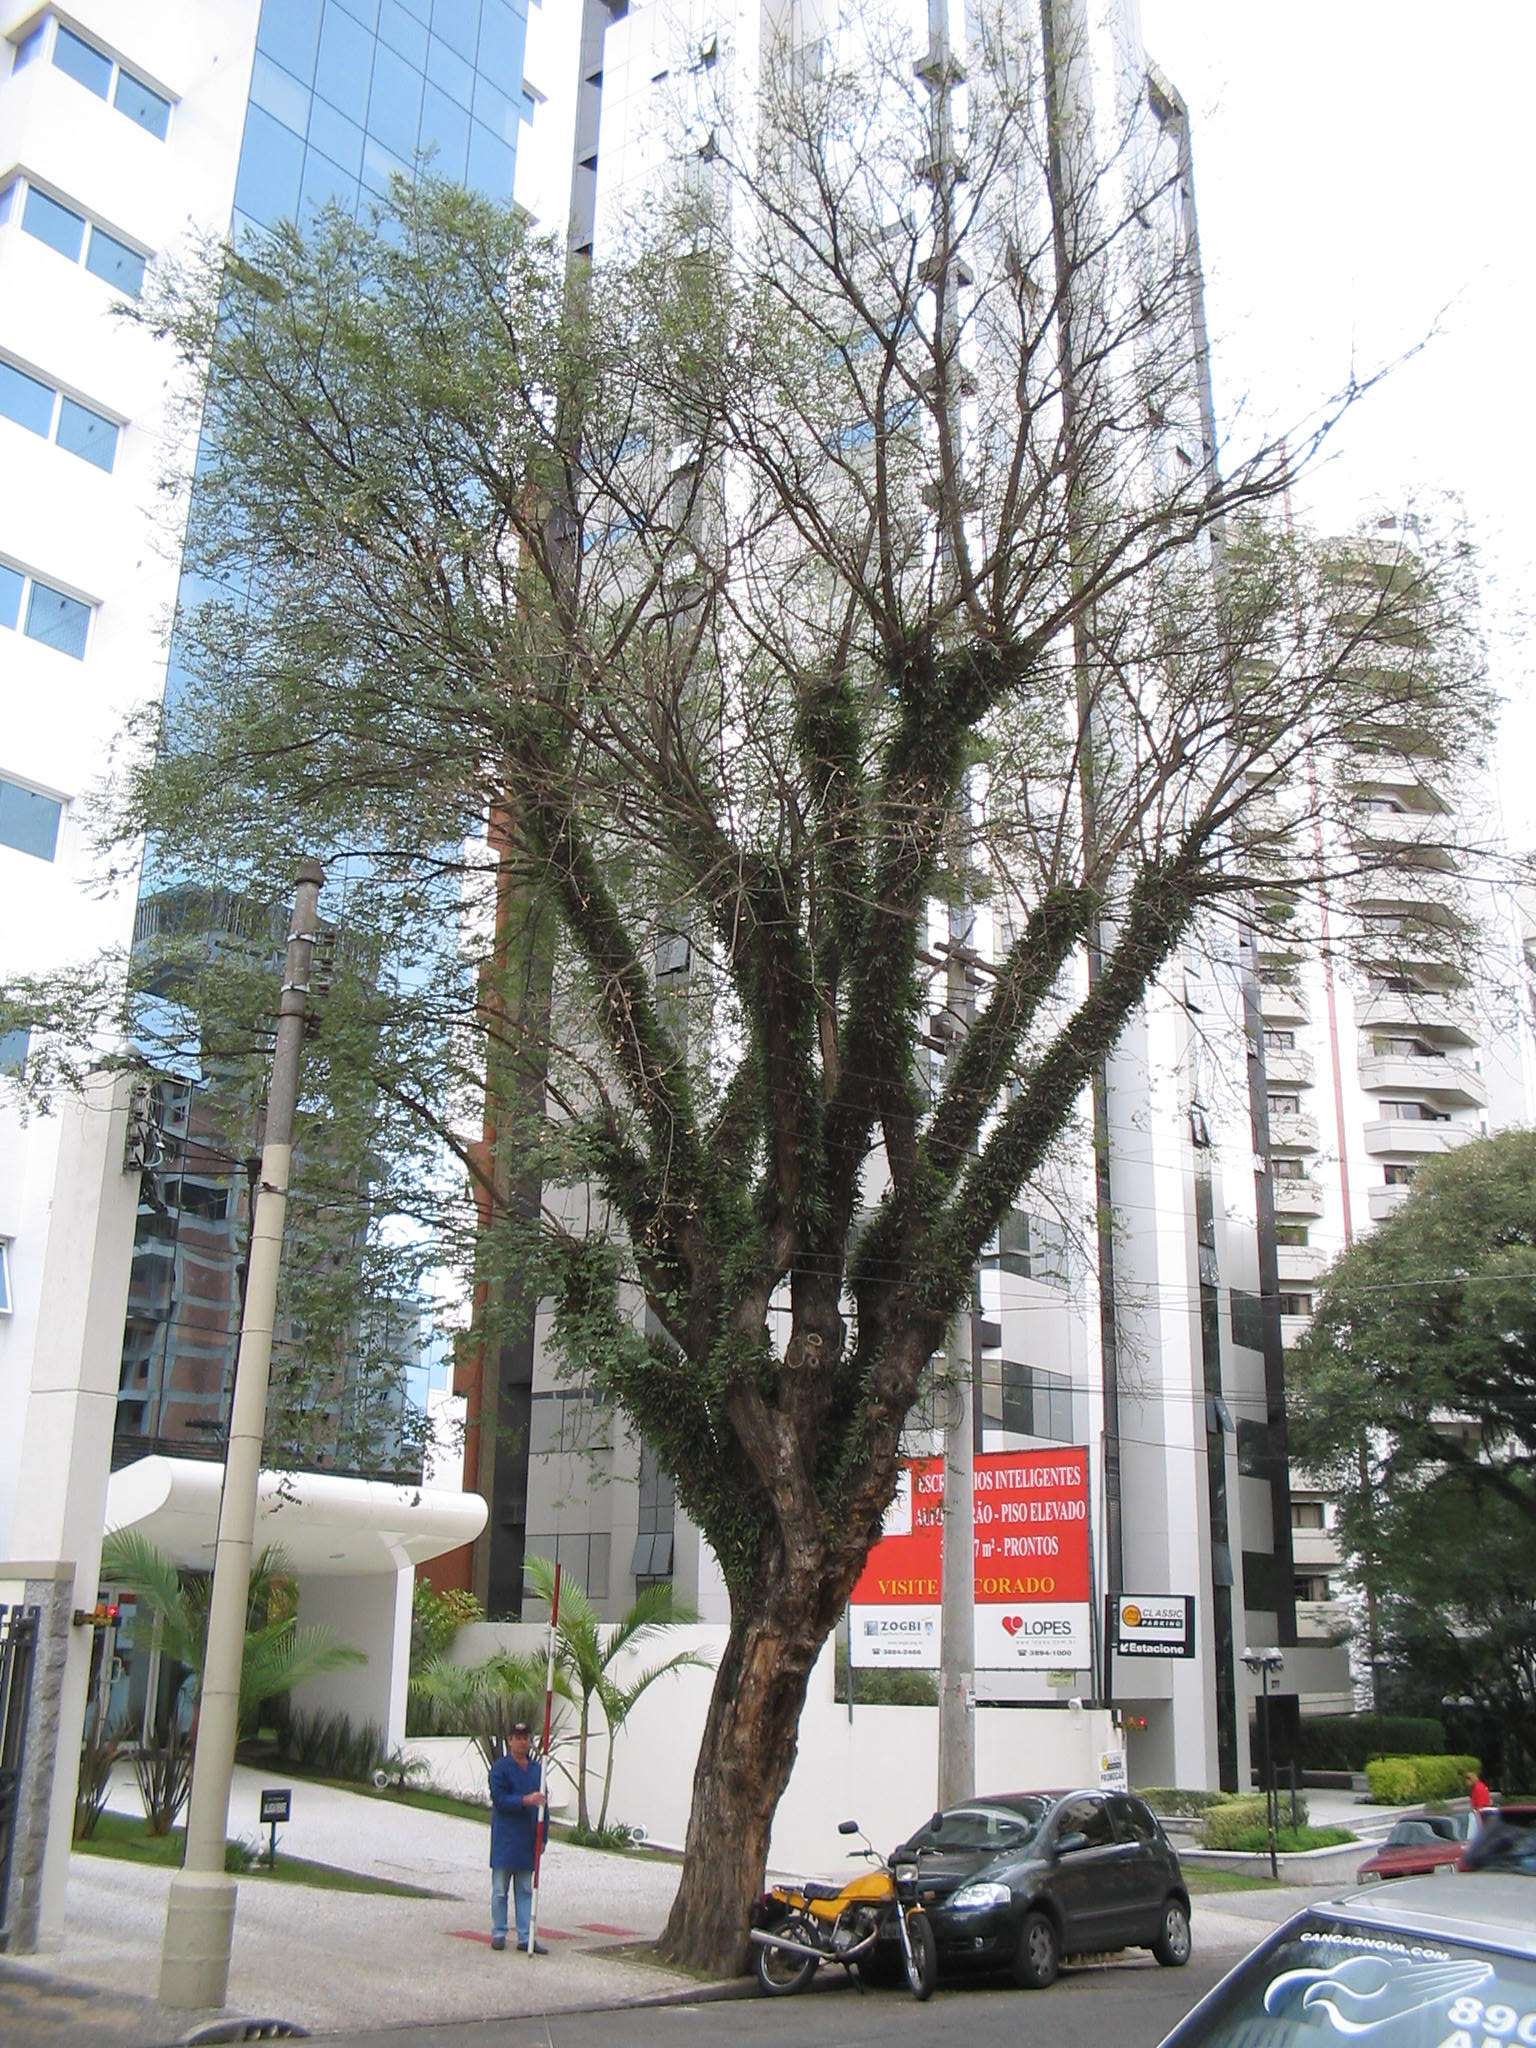crown: (15, 8, 1523, 1482)
stem: (620, 1579, 862, 1966)
stick: (511, 1563, 579, 1958)
tree: (6, 5, 1536, 1972), (1270, 1121, 1536, 1793)
